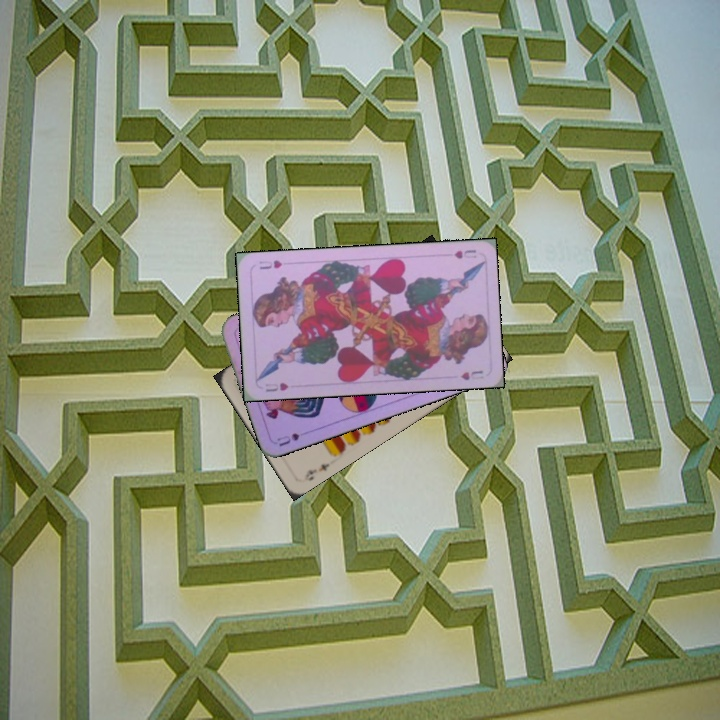E9: (300, 459, 332, 484)
HU: (261, 378, 291, 395), (450, 245, 479, 261)
SU: (273, 429, 302, 449)
